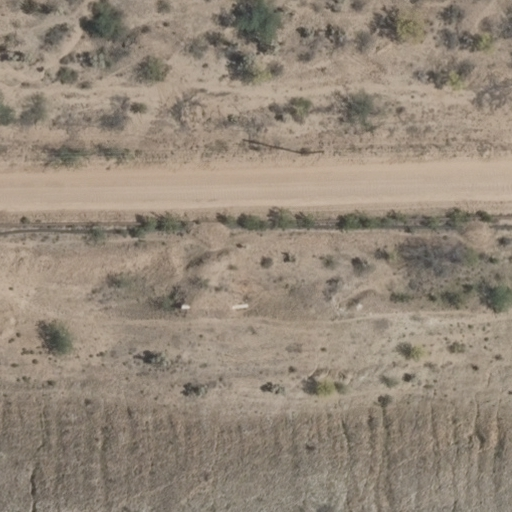DT: (296, 142, 330, 161)
